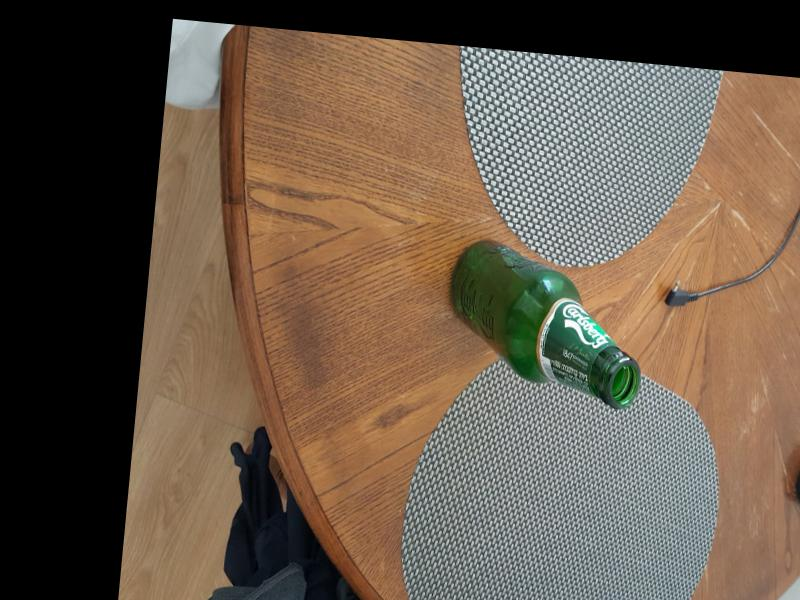Beer: (436, 229, 652, 412)
